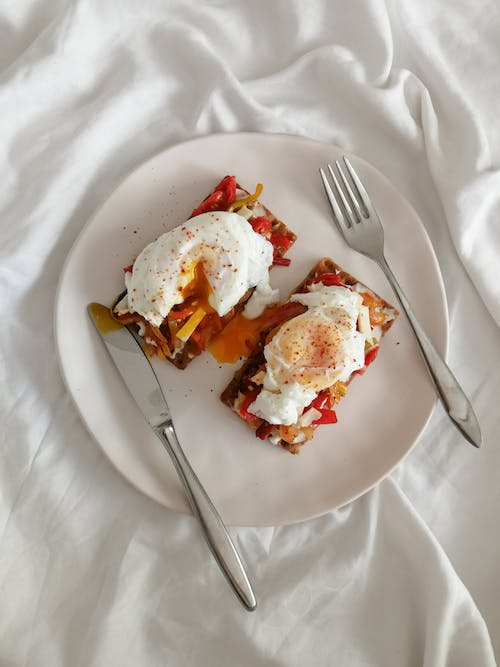knife: (83, 299, 258, 613)
